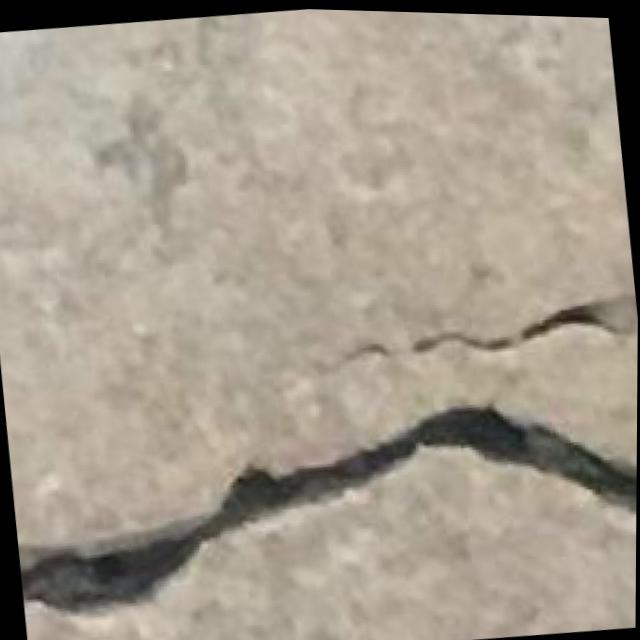Crack: (15, 372, 638, 640), (320, 278, 638, 398)
